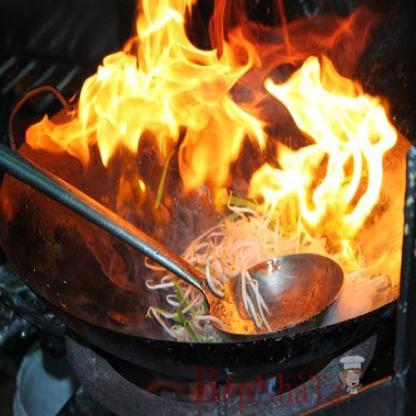fire: (32, 0, 402, 265)
